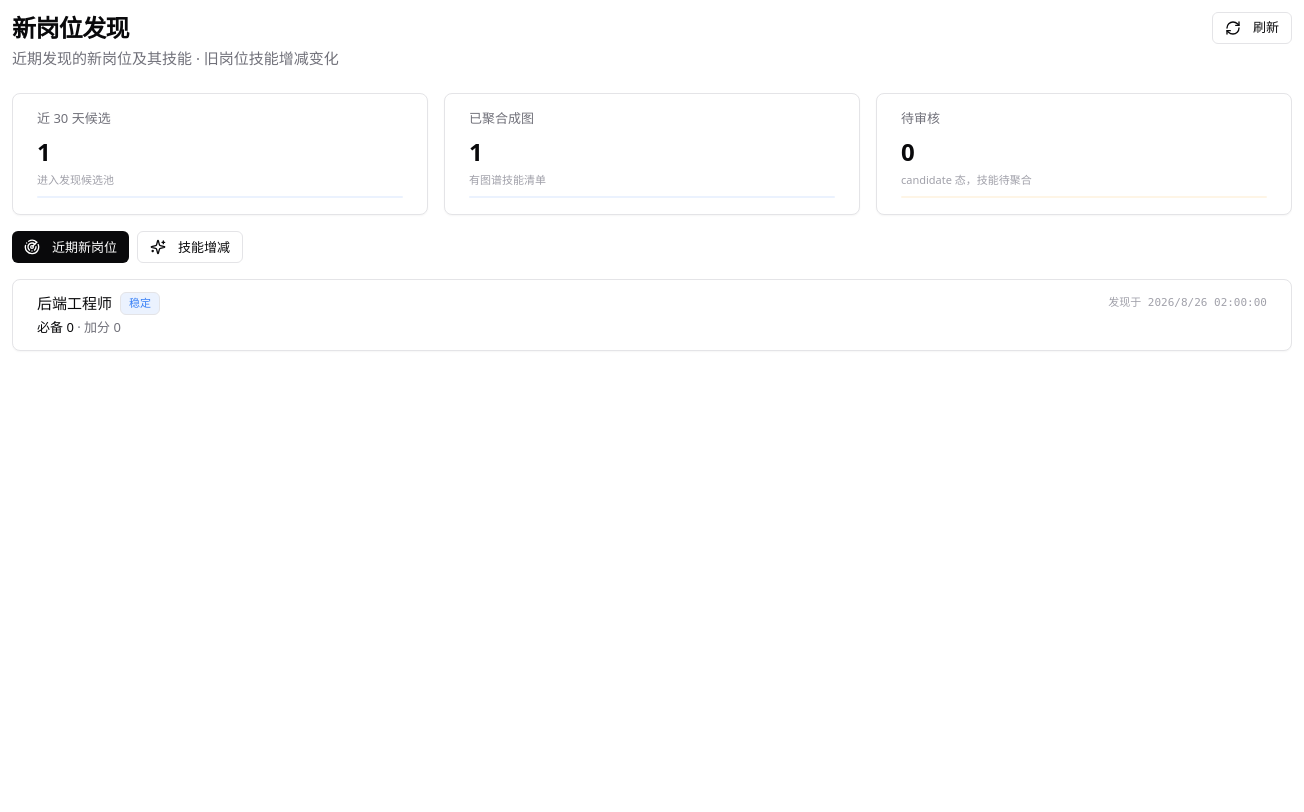
Test: DiscoveryPage › 明细渲染：按技能名排序 + 未变超量折叠/展开
The width and height of the screenshot is (1304, 812).
Expected: the text "后端工程师" is shown, [37, 293, 112, 314]
Click the button "技能增减" at (190, 247), box [137, 231, 243, 263]
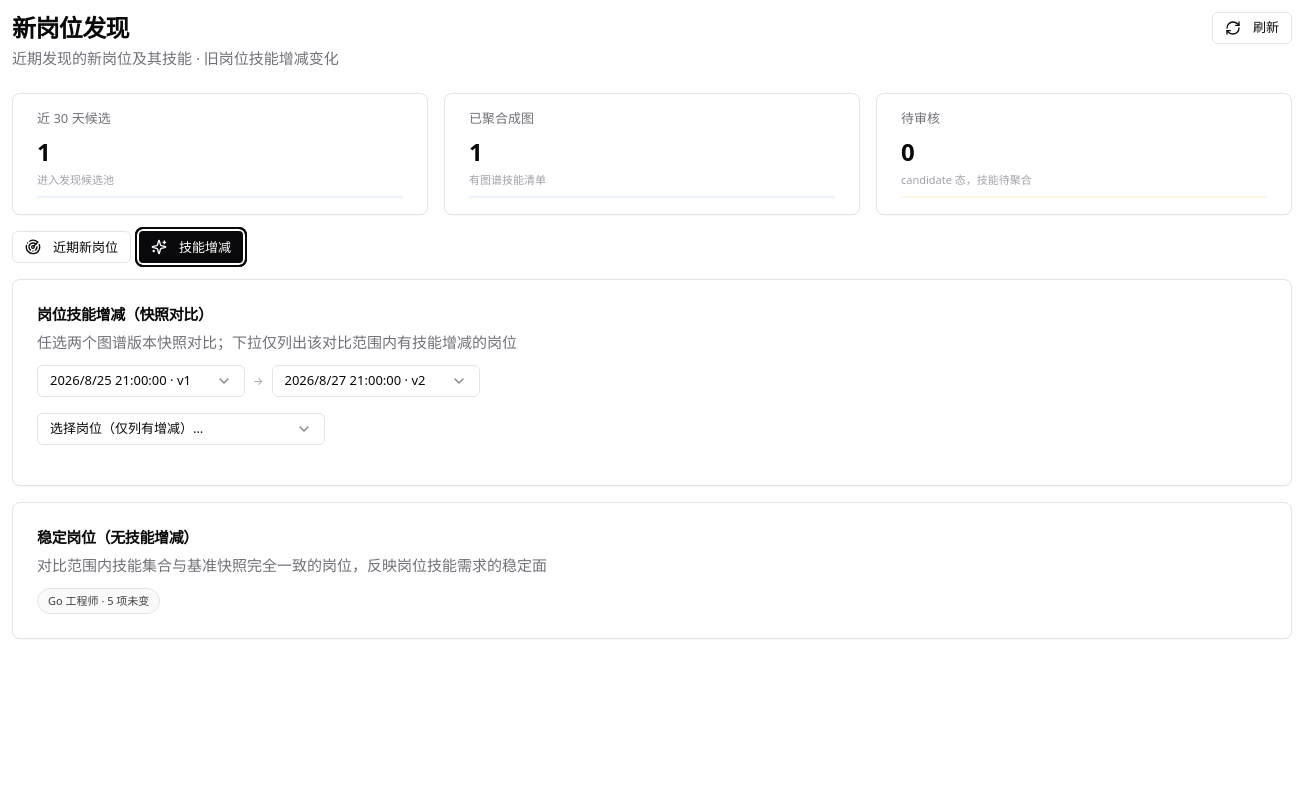
Result: the text "选择岗位（仅列有增减）…" is shown at [50, 420, 203, 438]
Click the dropdown labelled "岗位" at (181, 429), box [37, 413, 325, 445]
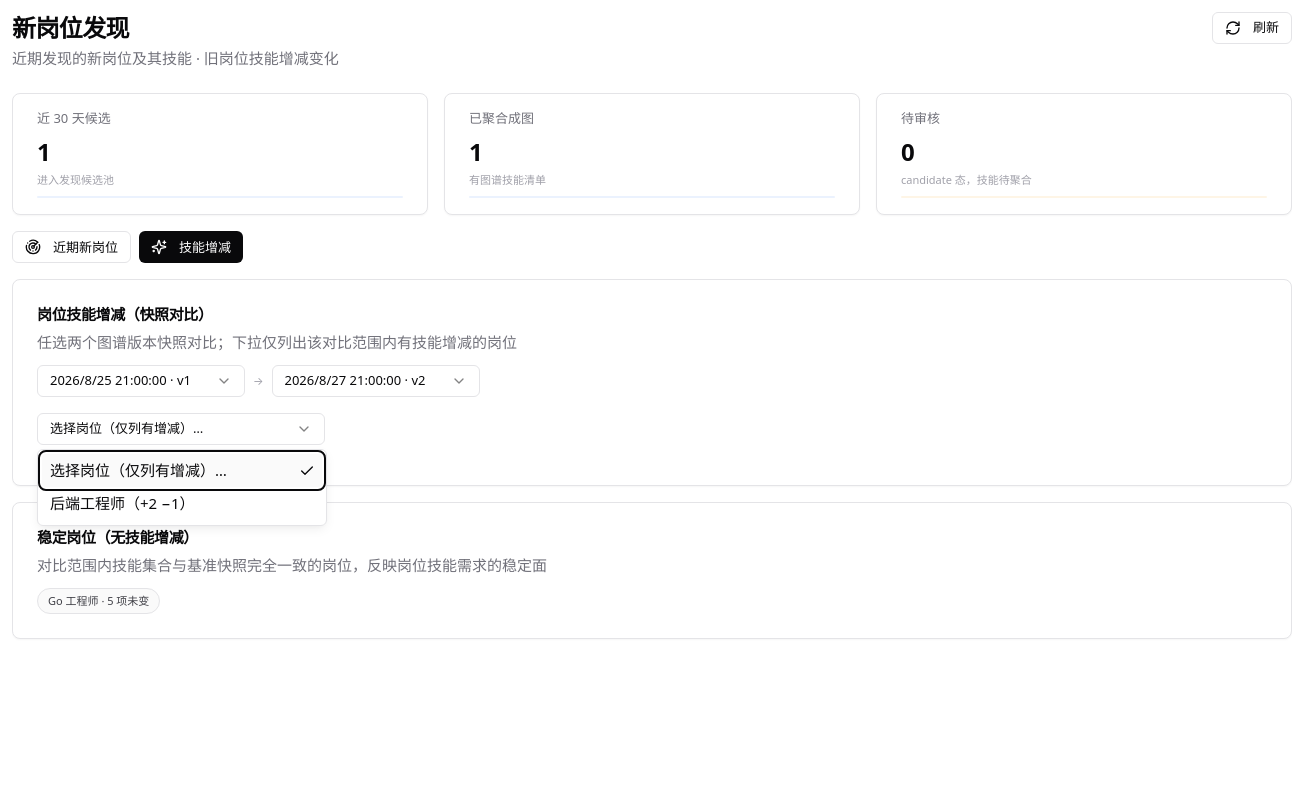
Click the option "后端工程师（+2 −1）" at (122, 503), box [50, 493, 195, 513]
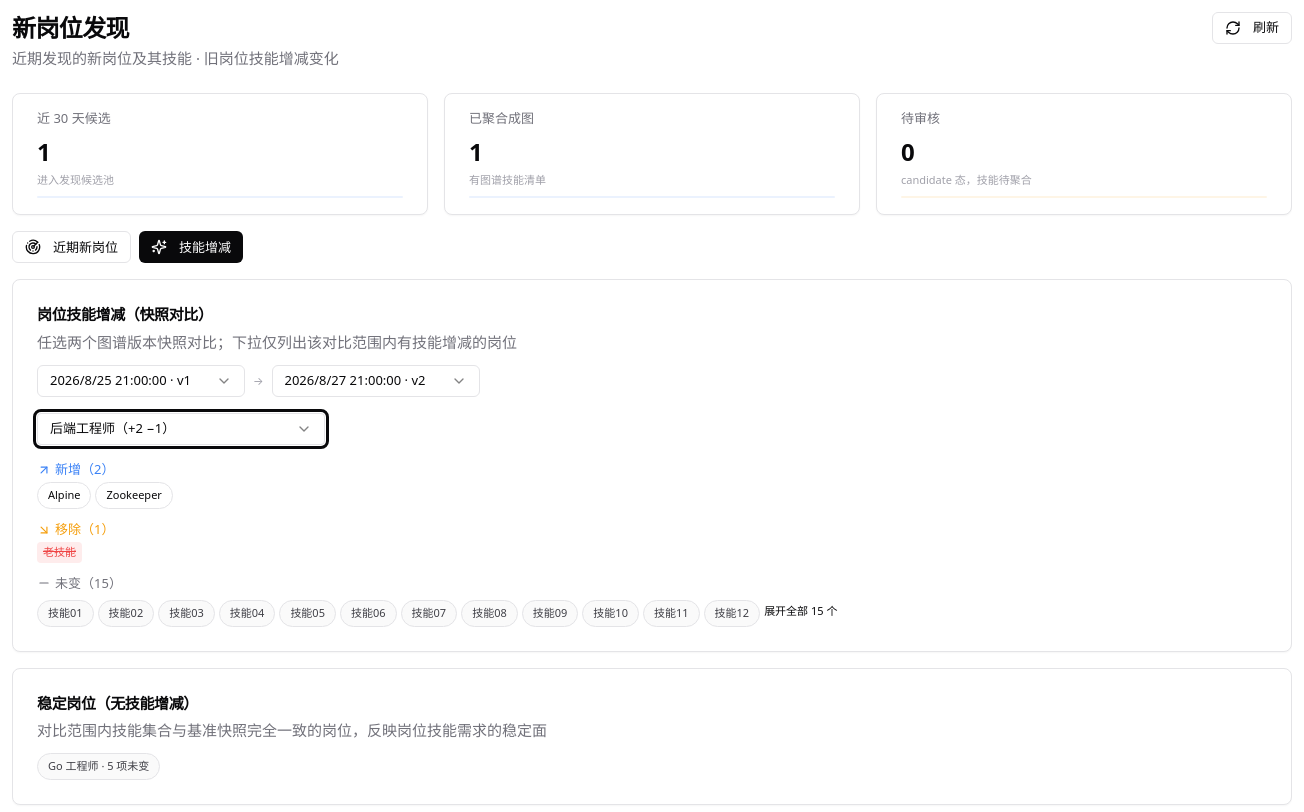
Result: the text "Alpine" is shown at [37, 482, 92, 509]
Result: the text "移除（1）" is shown at [37, 520, 114, 538]
Result: the text "未变（15）" is shown at [37, 574, 122, 592]
Click the button "展开全部 15 个" at (801, 611), box [764, 603, 837, 620]
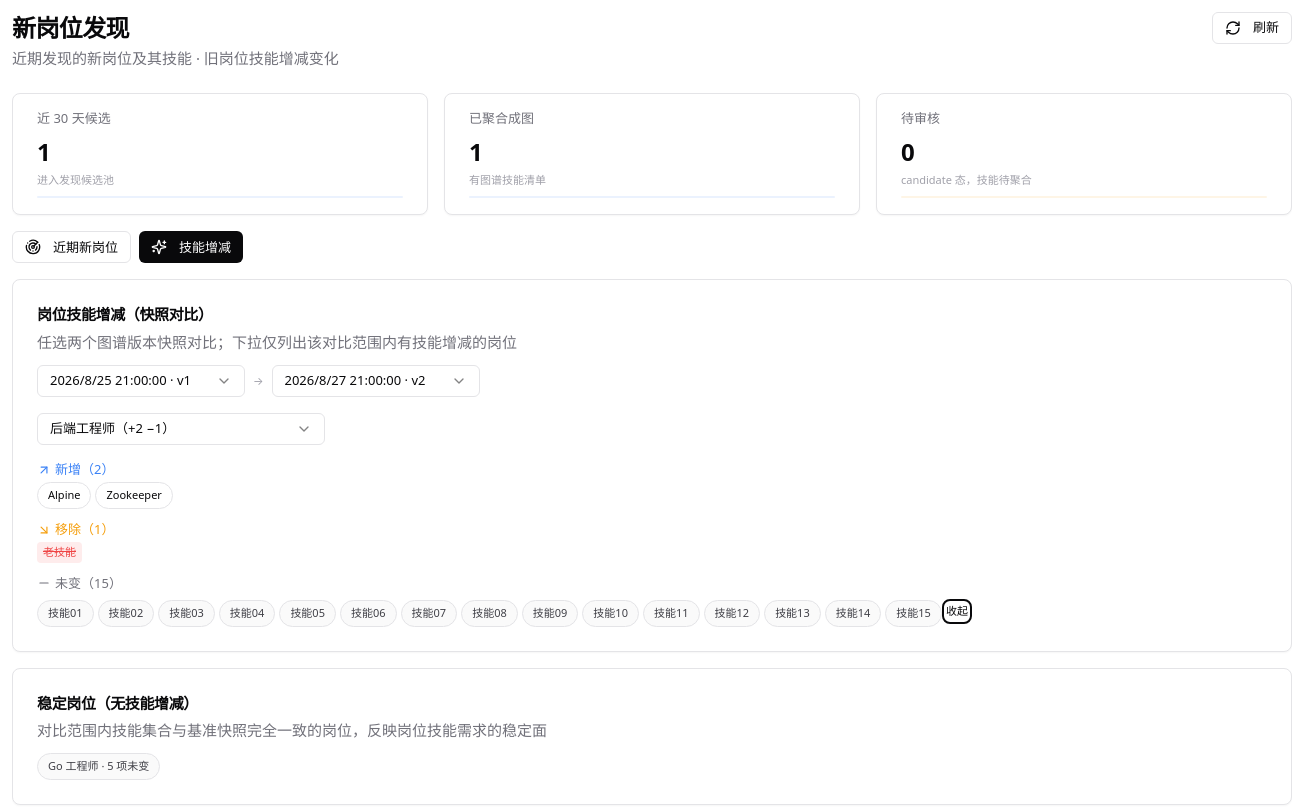
Result: the text "技能13" is shown at [764, 600, 821, 627]
Result: the button "收起" is shown at [946, 603, 968, 620]
